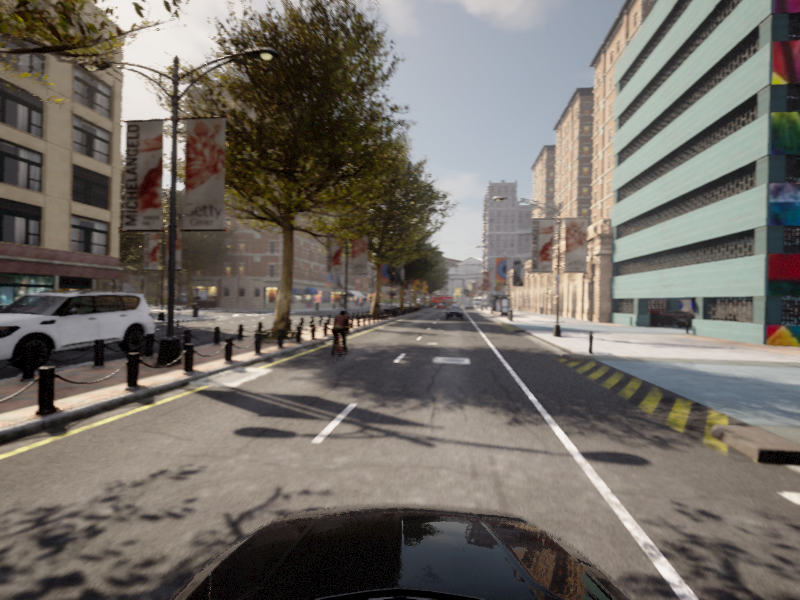vehicle: (1, 288, 164, 378), (1, 306, 78, 364), (322, 309, 356, 365), (445, 306, 463, 319)
